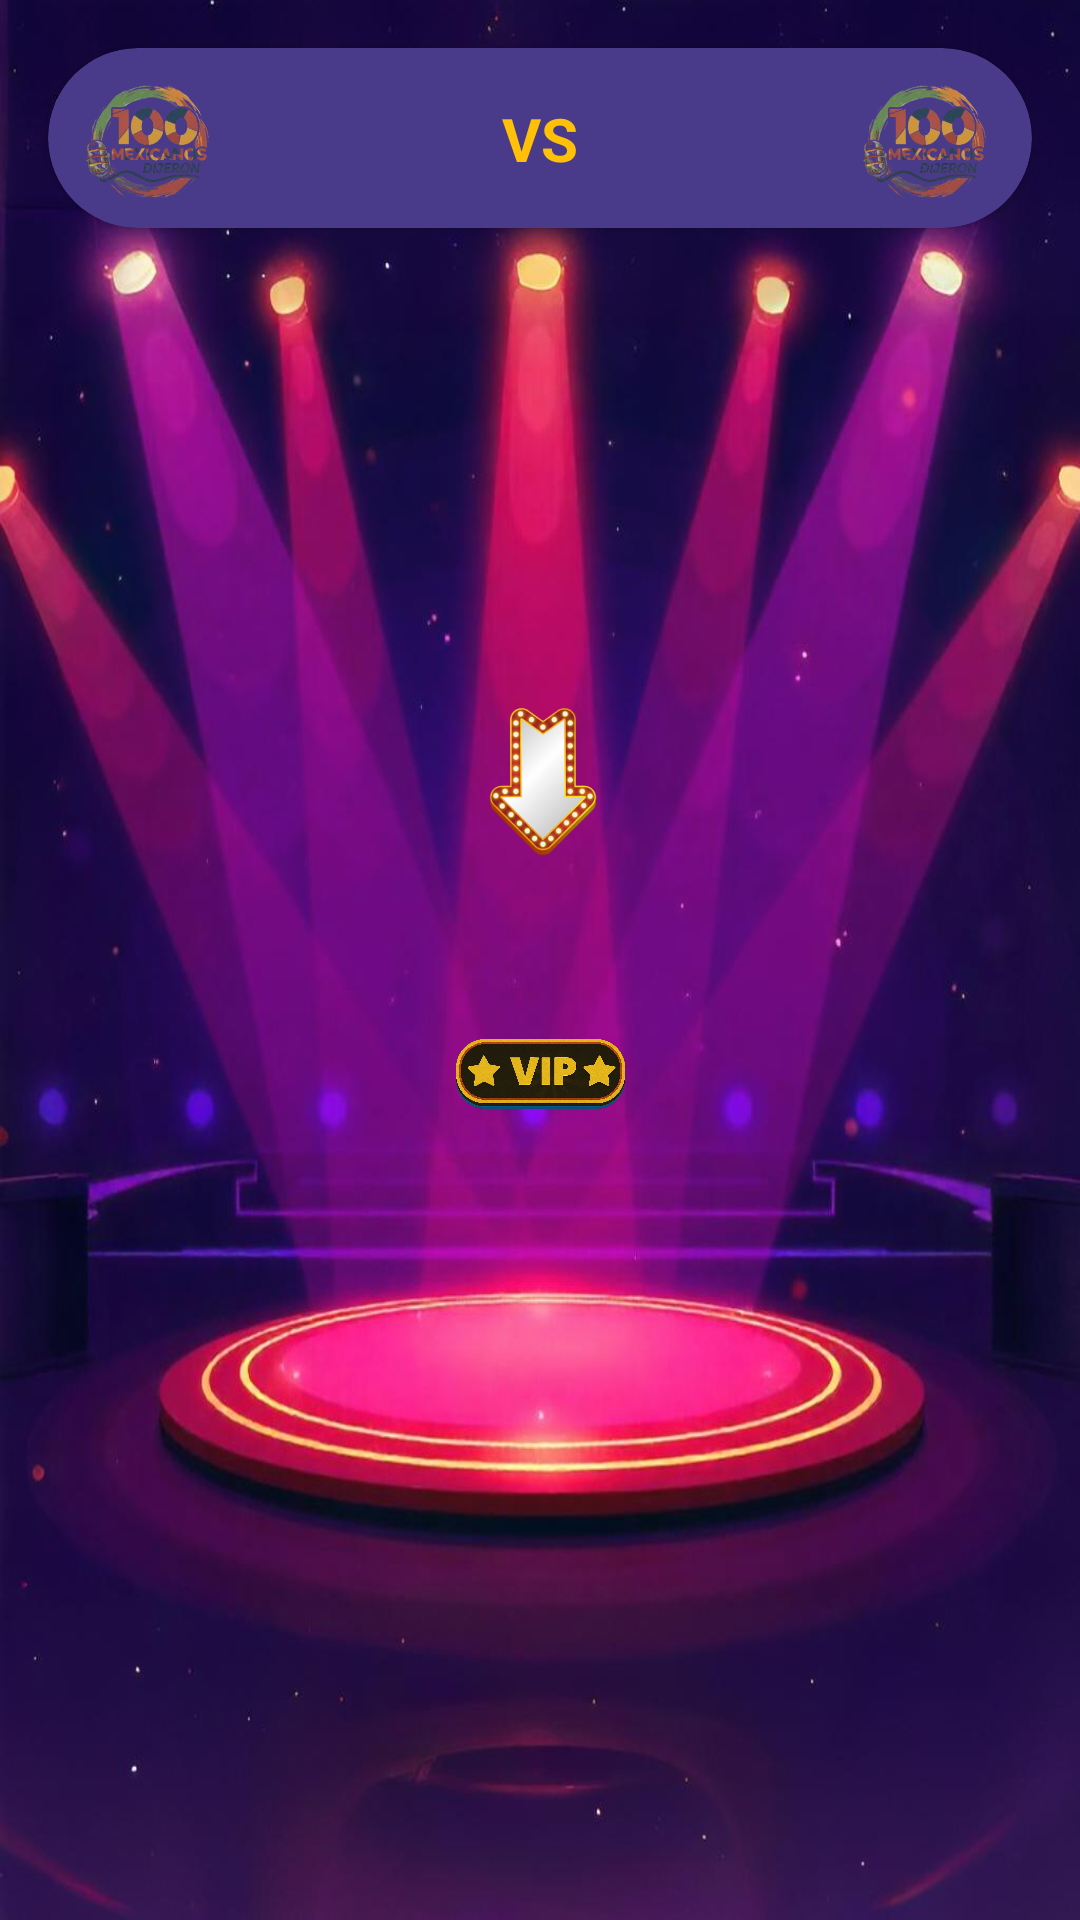

Icon click points for this 1080w x 1920h phone screenshot, format [x,y]:
indicador: [540,774]
